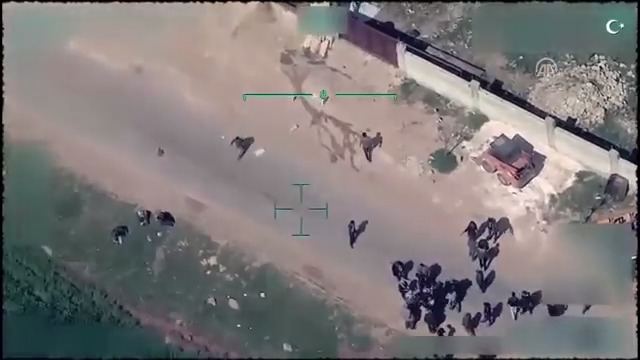arac: (471, 122, 545, 194)
insan: (352, 120, 379, 162), (459, 219, 481, 257), (230, 131, 253, 164), (343, 214, 362, 252), (504, 284, 522, 323), (471, 266, 488, 293)
